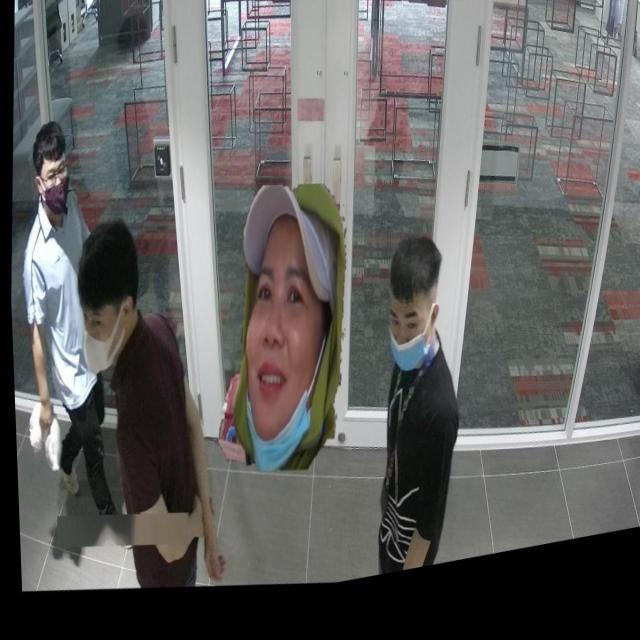hairnet: (234, 262, 316, 490)
